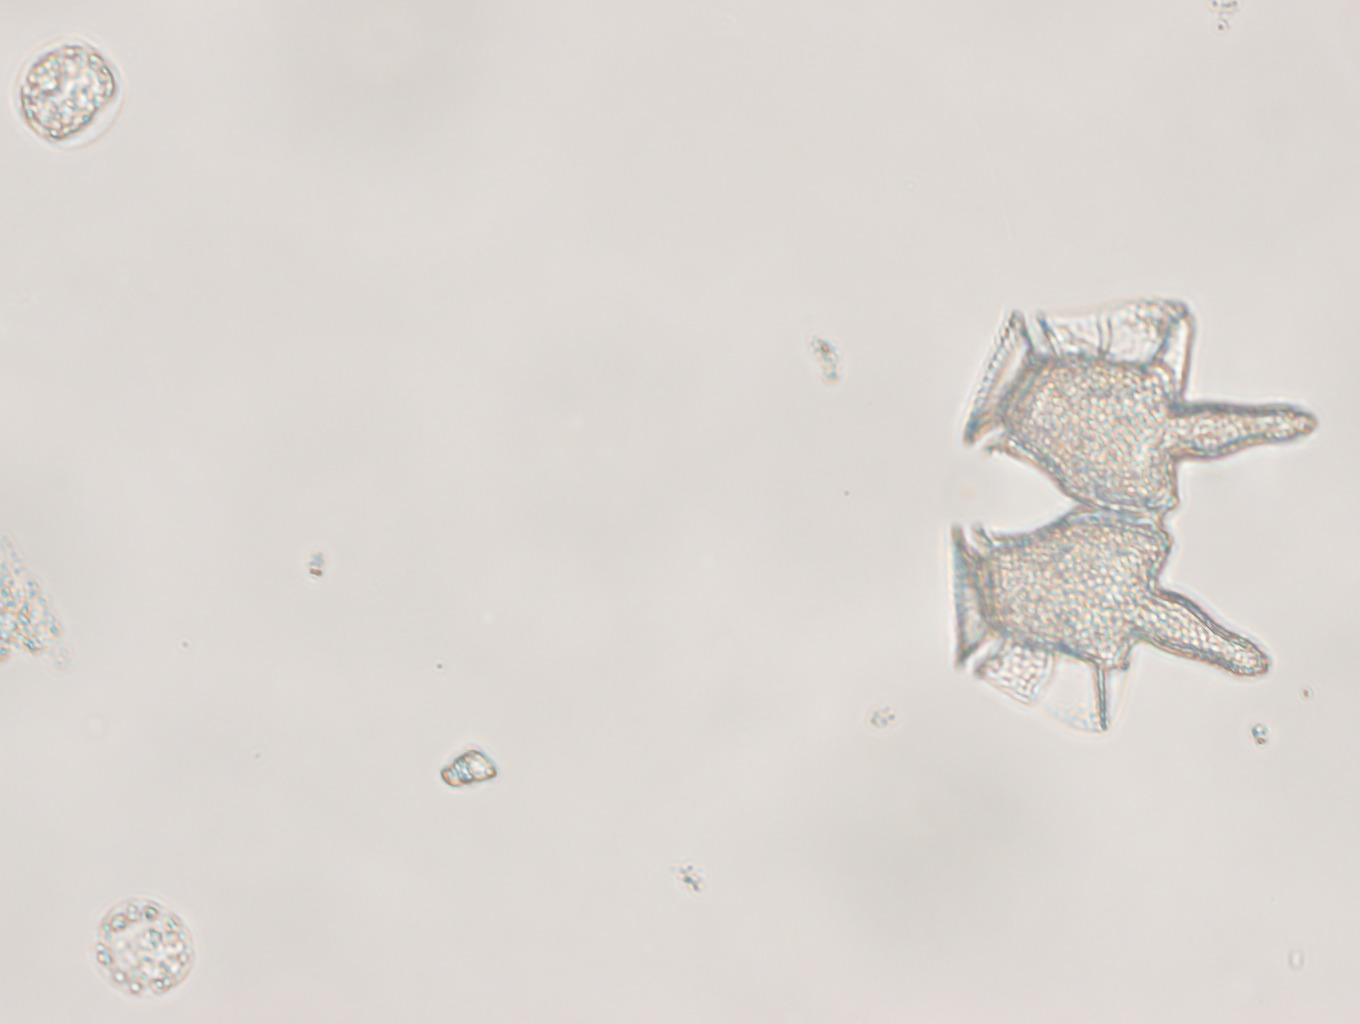dinophysis caudata: (947, 298, 1320, 737)
